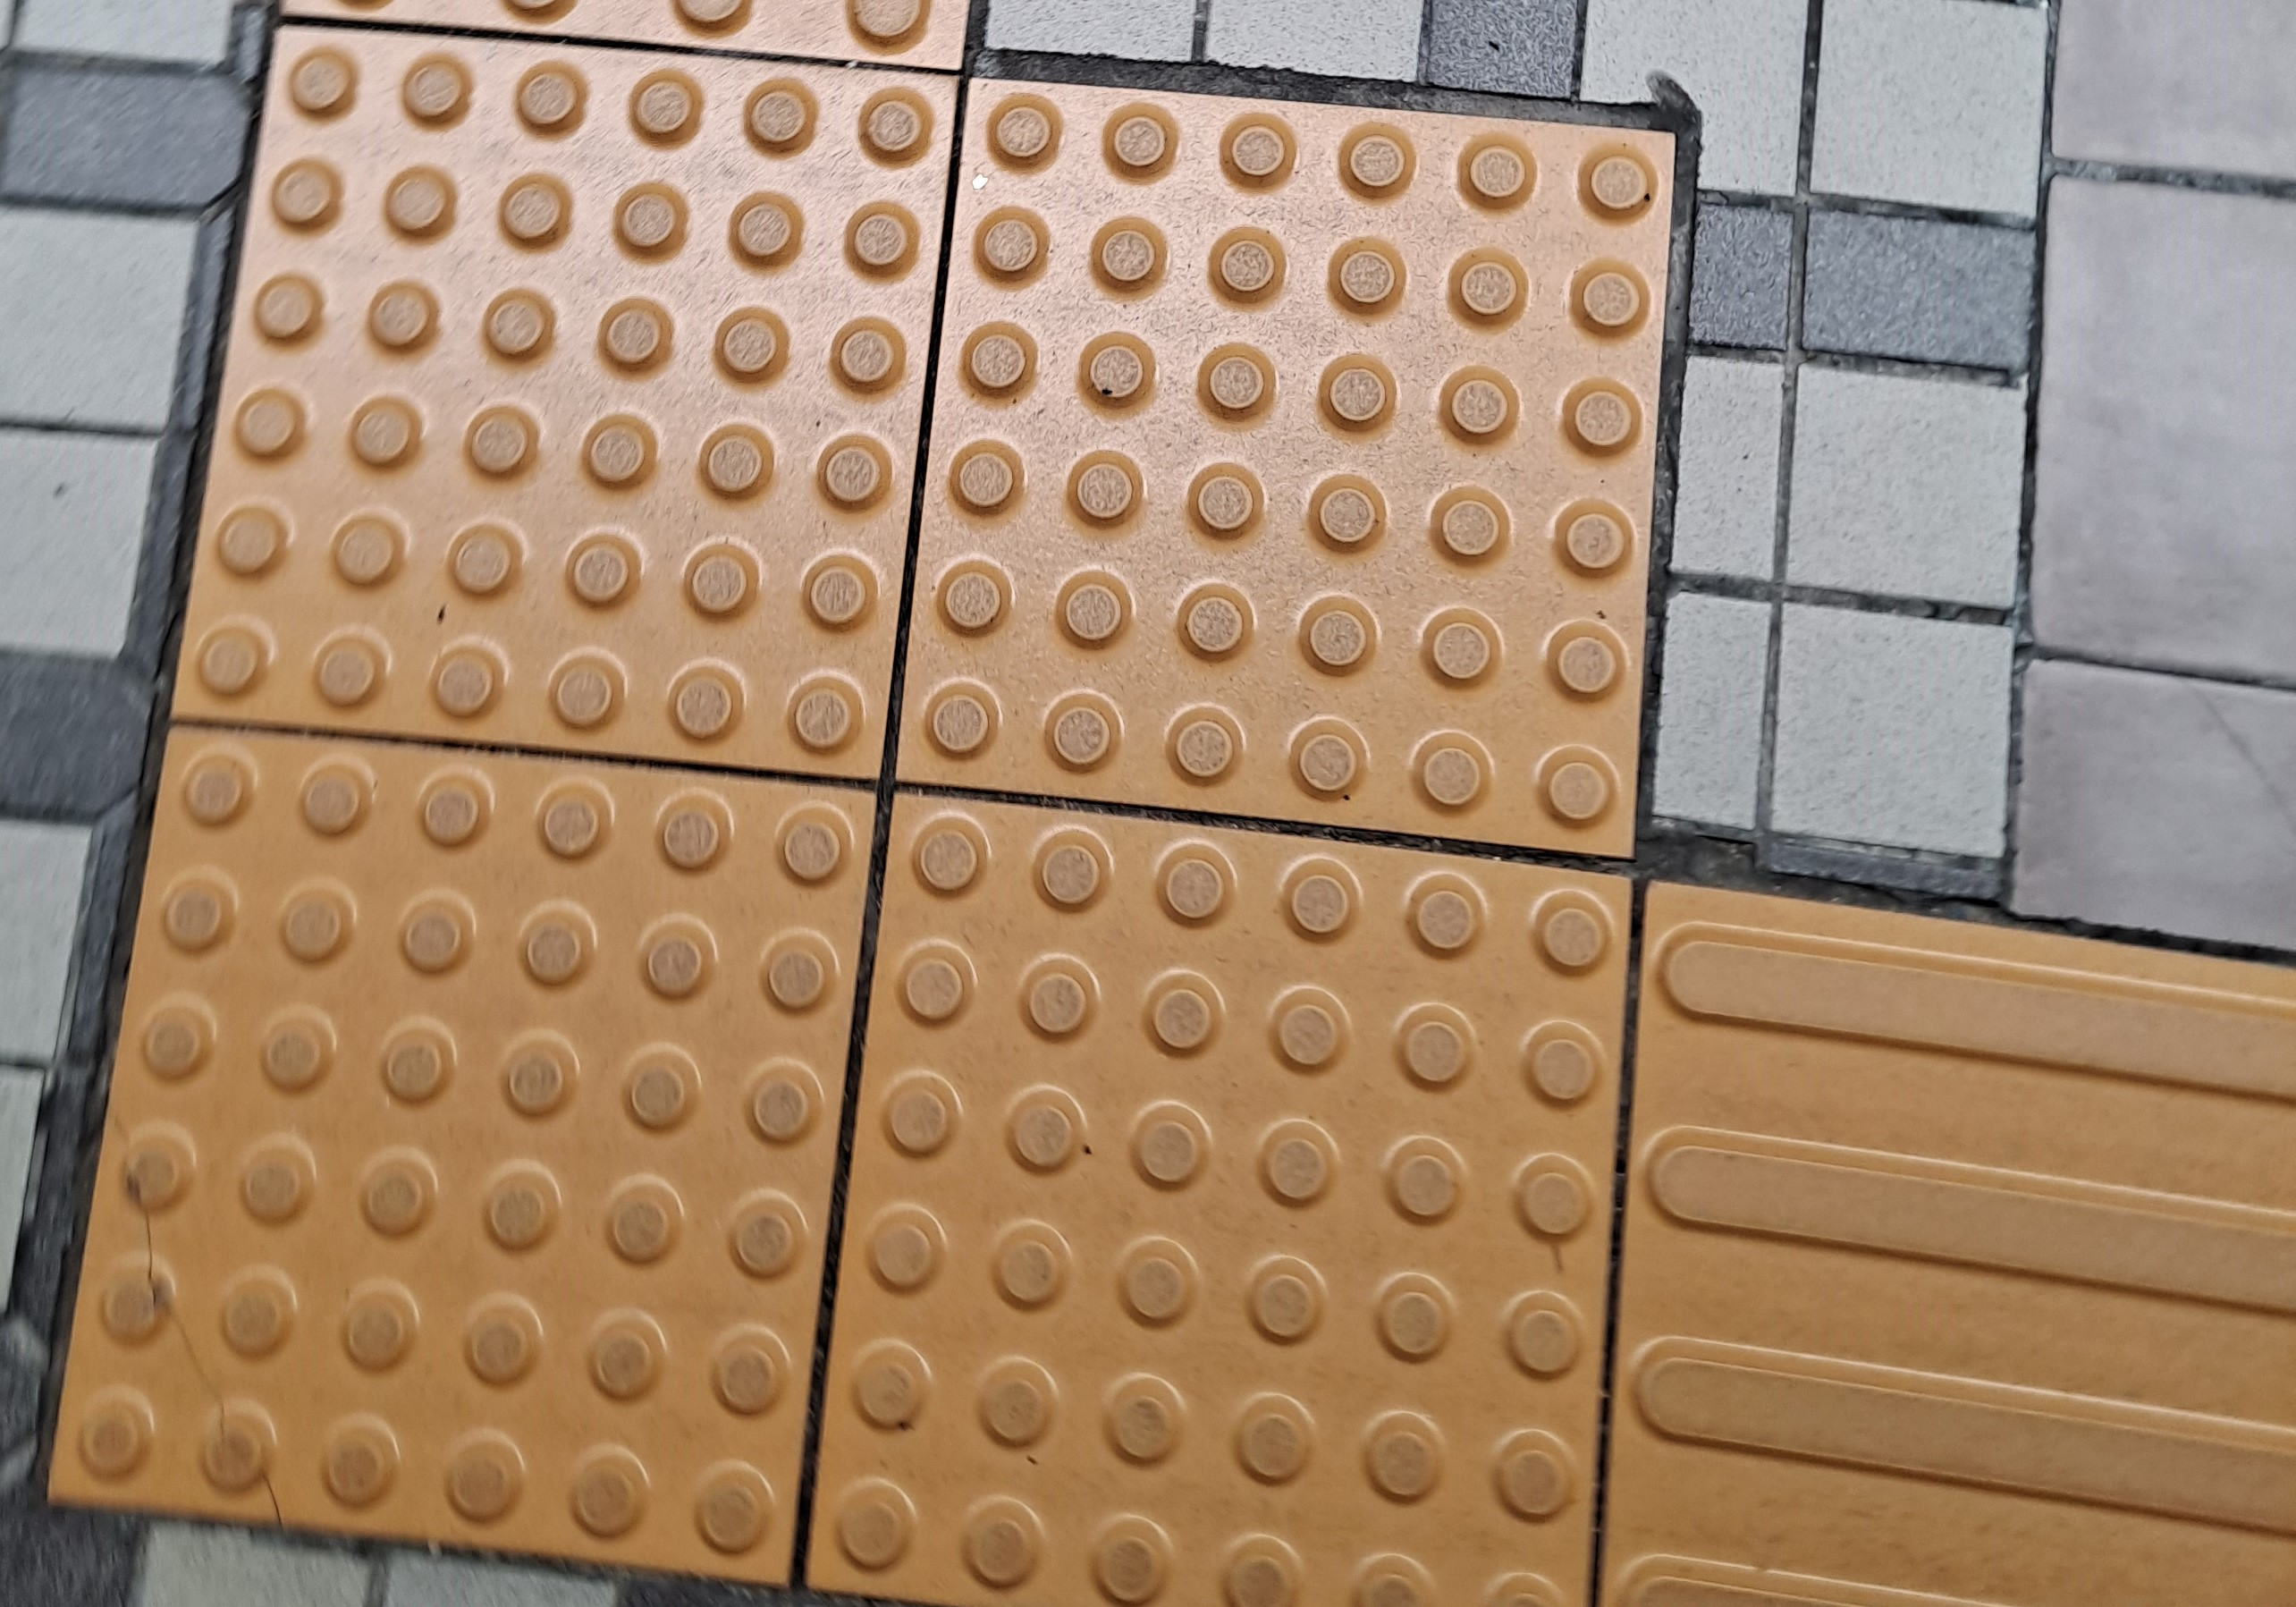guideBlock: (1694, 890, 2296, 1607)
warningBlock: (857, 796, 1575, 1607), (134, 742, 804, 1518), (953, 89, 1616, 813), (253, 47, 916, 756)
